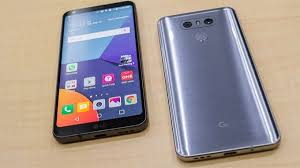lg: (154, 5, 281, 163), (47, 1, 148, 146)
